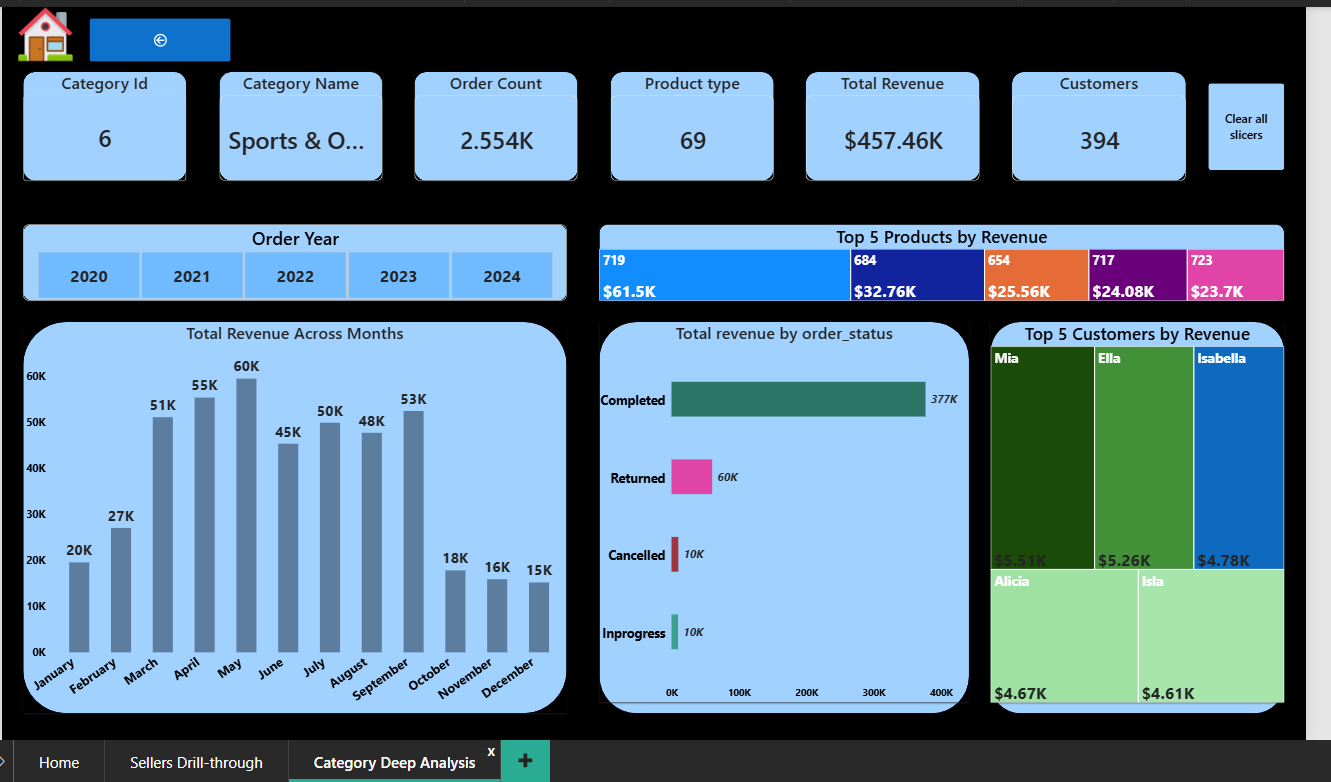

This screenshot's page, from the dashboard's own definition file:
{"tool":"powerbi","page":{"name":"Category Deep Analysis","canvas":[1920,1080],"ordinal":2},"visuals":[{"type":"shape","box":[32,96,240,160],"z":0},{"type":"actionButton","box":[128,16,208,64],"z":1000},{"type":"shape","box":[320,96,240,160],"z":2000},{"type":"shape","box":[608,96,240,160],"z":3000},{"type":"shape","box":[896,96,240,160],"z":4000},{"type":"shape","box":[880,320,1008,112],"z":5000},{"type":"shape","box":[32,320,800,112],"z":6000},{"type":"shape","box":[1184,96,256,160],"z":7000},{"type":"advancedSlicerVisual","title":"Category Id","fields":{"Values":["category.category_id"]},"box":[32,96,240,160],"z":8000},{"type":"shape","box":[880,464,544,576],"z":9000},{"type":"shape","box":[1456,464,432,576],"z":10000},{"type":"cardVisual","title":"Product type","fields":{"Data":["Count(products.product_id)"]},"box":[896,96,240,160],"z":11000},{"type":"cardVisual","title":"Category Name","fields":{"Data":["Min(category.category_name)"]},"box":[320,96,240,160],"z":12000},{"type":"shape","box":[32,464,800,576],"z":13000},{"type":"cardVisual","title":"Order Count","fields":{"Data":["Count(orders.order_id)"]},"box":[608,96,240,160],"z":14000},{"type":"cardVisual","title":"Total Revenue","fields":{"Data":["_measures.Total Across revenue"]},"box":[1184,96,256,160],"z":15000},{"type":"columnChart","title":"Total Revenue Across Months","fields":{"Category":["payments.payment_date.Variation.Date Hierarchy.Month"],"Y":["_measures.Total Across revenue"]},"box":[32,464,800,576],"z":16000},{"type":"slicer","title":"Order Year","fields":{"Values":["orders.Order_year"]},"box":[32,320,800,112],"z":17000},{"type":"barChart","fields":{"Category":["orders.order_status"],"Y":["_measures.Total Across revenue"]},"box":[880,464,544,560],"z":18000},{"type":"treemap","title":"Top 5 Customers by Revenue","fields":{"Group":["customers.first_name"],"Values":["_measures.Total Across revenue"]},"box":[1456,464,432,560],"z":19000},{"type":"treemap","title":"Top 5 Products by Revenue","fields":{"Group":["order_items.product_id"],"Values":["_measures.Total Across revenue"]},"box":[880,320,1008,112],"z":20000},{"type":"image","box":[0,0,128,80],"z":21000},{"type":"shape","box":[1488,96,256,160],"z":22000},{"type":"cardVisual","title":"Customers","fields":{"Data":["Count(orders.customer_id)"]},"box":[1488,96,256,160],"z":23000},{"type":"image","box":[1792,112,80,128],"z":24000},{"type":"actionButton","box":[1776,112,112,128],"z":25000}]}

Visuals, with their boxes in screenshot pixels (x1, y1, x2, y2):
shape: bbox=(15, 69, 179, 178)
actionButton: bbox=(81, 14, 223, 58)
shape: bbox=(212, 69, 376, 178)
shape: bbox=(409, 69, 573, 178)
shape: bbox=(606, 69, 770, 178)
shape: bbox=(595, 222, 1284, 299)
shape: bbox=(15, 222, 562, 299)
shape: bbox=(803, 69, 978, 178)
"Category Id" advancedSlicerVisual: bbox=(15, 69, 179, 178)
shape: bbox=(595, 321, 967, 714)
shape: bbox=(988, 321, 1284, 714)
"Product type" cardVisual: bbox=(606, 69, 770, 178)
"Category Name" cardVisual: bbox=(212, 69, 376, 178)
shape: bbox=(15, 321, 562, 714)
"Order Count" cardVisual: bbox=(409, 69, 573, 178)
"Total Revenue" cardVisual: bbox=(803, 69, 978, 178)
"Total Revenue Across Months" columnChart: bbox=(15, 321, 562, 714)
"Order Year" slicer: bbox=(15, 222, 562, 299)
barChart - orders.order_status x _measures.Total Across revenue: bbox=(595, 321, 967, 704)
"Top 5 Customers by Revenue" treemap: bbox=(988, 321, 1284, 704)
"Top 5 Products by Revenue" treemap: bbox=(595, 222, 1284, 299)
image: bbox=(0, 3, 81, 58)
shape: bbox=(1010, 69, 1185, 178)
"Customers" cardVisual: bbox=(1010, 69, 1185, 178)
image: bbox=(1218, 80, 1273, 168)
actionButton: bbox=(1207, 80, 1284, 168)
